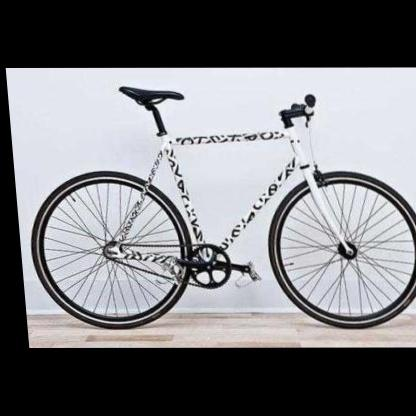Bicycle: (23, 79, 415, 341)
